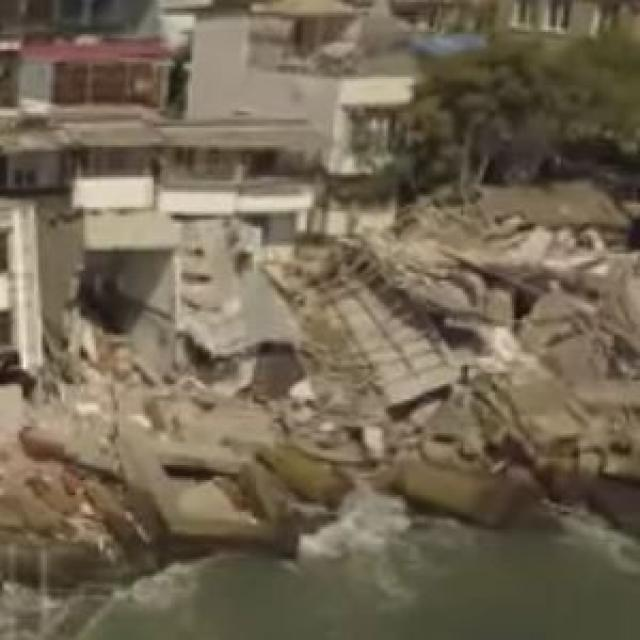collapsed_building: (87, 196, 638, 472)
